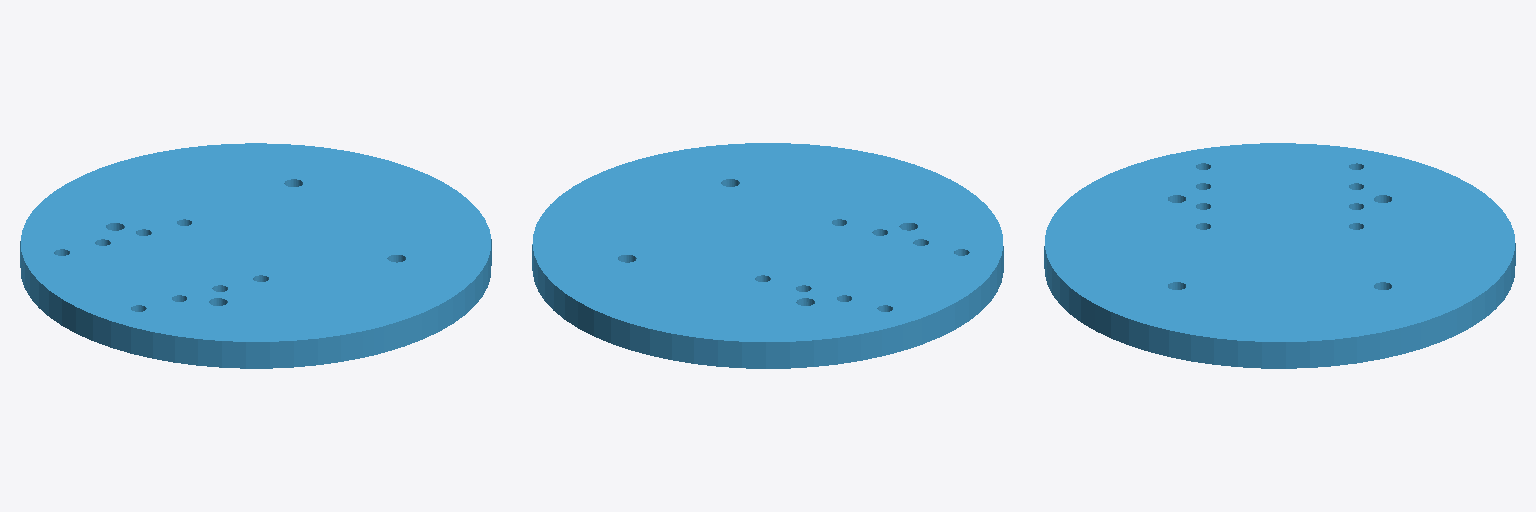
robot.urdf — robotic_arm:
<?xml version="1.0"?>
<robot name="robotic_arm">
  <!-- Used for fixing robot to Gazebo 'base_link' -->
  <link name="world"/>

  <joint name="fixed" type="fixed">
    <origin xyz="0 0 0.0025" rpy="0 0 0"/>
    <parent link="world"/>
    <child link="base_link"/>
  </joint >

  <link name="base_link">
    <inertial>
      <origin xyz="0.0 0.0 0.0" rpy="0.0 0.0 0.0"/>
      <mass value="0.1"/>
      <inertia ixx="0.0" ixy="0.0" ixz="0.0" iyy="0.0" iyz="0.0" izz="0.0"/>
    </inertial>
    <collision>
      <origin xyz="-0.04 0.04 -0.0025" rpy="1.570 0.0 0.0"/>
      <geometry>
        <mesh filename="package://robotic_arm/meshes/base.STL" scale="0.001 0.001 0.001"/>
      </geometry>
    </collision>
    <visual>
      <origin xyz="-0.04 0.04 -0.0025" rpy="1.570 0.0 0.0"/>
      <geometry>
        <mesh filename="package://robotic_arm/meshes/base.STL" scale="0.001 0.001 0.001"/>
      </geometry>
    </visual>
  </link>
  

  <link name="revolve_motor">
    <inertial>
      <origin xyz="0.0 0.0 0.0" rpy="0.0 0.0 0.0"/>
      <mass value="0.1"/>
      <inertia ixx="0.0" ixy="0.0" ixz="0.0" iyy="0.0" iyz="0.0" izz="0.0"/>
    </inertial>
    <collision>
        <origin xyz="0.025 -0.016 0.020" rpy="3.1415 0 3.1415"/>
        <geometry>
          <mesh filename="package://robotic_arm/meshes/AX-12A.STL" scale="0.001 0.001 0.001"/>
        </geometry>
    </collision>
    <visual>
      <origin xyz="0.025 -0.016 0.020" rpy="3.1415 0 3.1415"/>
      <geometry>
        <mesh filename="package://robotic_arm/meshes/AX-12A.STL" scale="0.001 0.001 0.001"/>
      </geometry>
    </visual>
  </link>

  <joint name="revolvemotor_to_baseplate" type="fixed">
    <parent link="base_link"/>
    <child link="revolve_motor"/>
    <origin xyz="0 0 0.0225"/>
  </joint>
  
  <!--joint name="plate_to_revolvemotor" type="fixed">
    <parent link="revolve_motor"/>
    <child link="turntable"/>
    <origin xyz="0 0 0"/>
  </joint>

  <link name="turntable">
    <inertial>
      <origin xyz="0.0 0.0 0.0" rpy="0.0 0.0 0.0"/>
      <mass value="0.1"/>
      <inertia ixx="0.0" ixy="0.0" ixz="0.0" iyy="0.0" iyz="0.0" izz="0.0"/>
    </inertial>
    <collision>
        <origin xyz="-0.2 0.2 0.2" rpy="1.570 0 0"/>
        <geometry>
          <mesh filename="package://robotic_arm/meshes/turntable.STL" scale="0.01 0.01 0.01"/>
        </geometry>
    </collision>
    <visual>
      <origin rpy="1.570 0 0" xyz="-0.2 0.2 0.2"/>
      <geometry>
        <mesh filename="package://robotic_arm/meshes/turntable.STL" scale="0.01 0.01 0.01"/>
      </geometry>
    </visual>
  </link>



  <link name="humerus_motor">
    <inertial>
      <origin xyz="0.0 0.0 0.0" rpy="0.0 0.0 0.0"/>
      <mass value="0.1"/>
      <inertia ixx="0.0" ixy="0.0" ixz="0.0" iyy="0.0" iyz="0.0" izz="0.0"/>
    </inertial>
    <collision>
        <origin xyz="0.25 -1 2" rpy="1.570 0 3.1415"/>
        <geometry>
          <mesh filename="package://robotic_arm/meshes/AX-12A.STL" scale="0.01 0.01 0.01"/>
        </geometry>
    </collision>
    <visual>
      <origin xyz="0.25 -1 2" rpy="1.570 0 3.1415"/>
      <geometry>
        <mesh filename="package://robotic_arm/meshes/AX-12A.STL" scale="0.01 0.01 0.01"/>
      </geometry>
    </visual>
  </link>

    <joint name="turntable_to_humerusmotor" type="fixed">
    <parent link="turntable"/>
    <child link="humerus_motor"/>
    <origin xyz="0 0 0"/>
  </joint>


  <link name="humerus">
    <inertial>
      <origin xyz="0.0 0.0 0.0" rpy="0.0 0.0 0.0"/>
      <mass value="0.1"/>
      <inertia ixx="0.0" ixy="0.0" ixz="0.0" iyy="0.0" iyz="0.0" izz="0.0"/>
    </inertial>
    <collision>
        <origin xyz="[phone redacted]" rpy="0 -3.1415 1.570"/>
        <geometry>
          <mesh filename="package://robotic_arm/meshes/humerus.STL" scale="0.01 0.01 0.01"/>
        </geometry>
    </collision>
    <visual>
      <origin rpy="0 -3.1415 1.570" xyz="[phone redacted]"/>
      <geometry>
        <mesh filename="package://robotic_arm/meshes/humerus.STL" scale="0.01 0.01 0.01"/>
      </geometry>
    </visual>
  </link>

  <joint name="turntable_to_humerus_joint" type="fixed">
    <parent link="turntable"/>
    <child link="humerus"/>
    <origin xyz="0 0 0"/>
  </joint-->


</robot>

--- Facts derived from the render (not from the file) ---
3 views of the same robot in one strip: view 1: azimuth 30°, elevation 25°; view 2: azimuth 150°, elevation 25°; view 3: azimuth 270°, elevation 25° (orthographic).
Model robotic_arm with 3 links and 2 joints (2 fixed), rooted at world, posed all joints at 0.
Visible links, largest first — view 1: base_link; view 2: base_link; view 3: base_link.
Link boxes in pixels (box(x1,y1,x2,y2)): base_link: box(20, 143, 491, 368); base_link: box(532, 143, 1003, 368); base_link: box(1044, 143, 1515, 368).
Bounding box of the posed robot: 0.08 × 0.08 × 0.0051 m (x, y, z).
Meshes: 2 distinct files referenced, 1 mesh visuals loaded (1 binary STL); not drawn: 1 (reference not matched to a file when rendering).